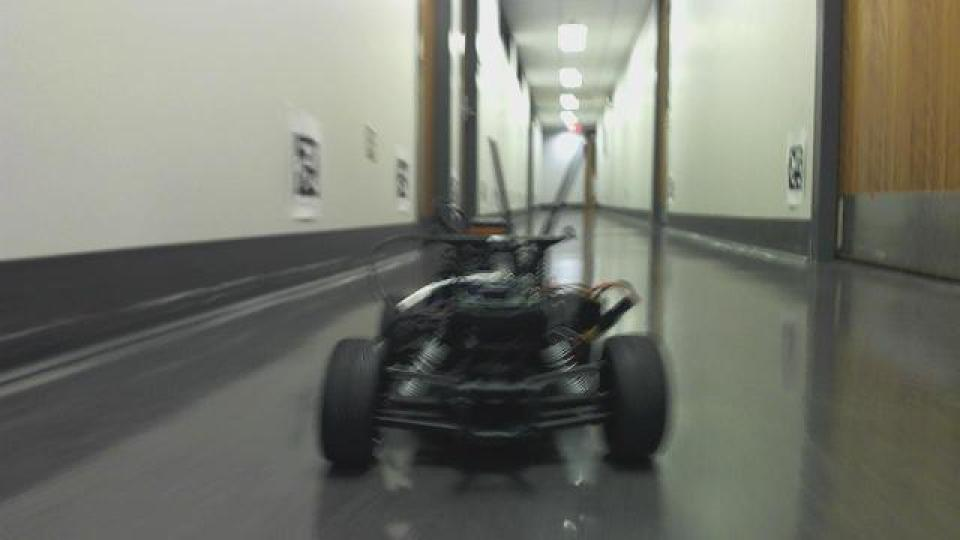car: (311, 131, 684, 481)
